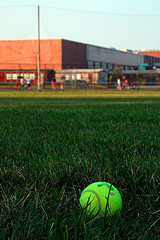tennis ball: (78, 180, 123, 215)
